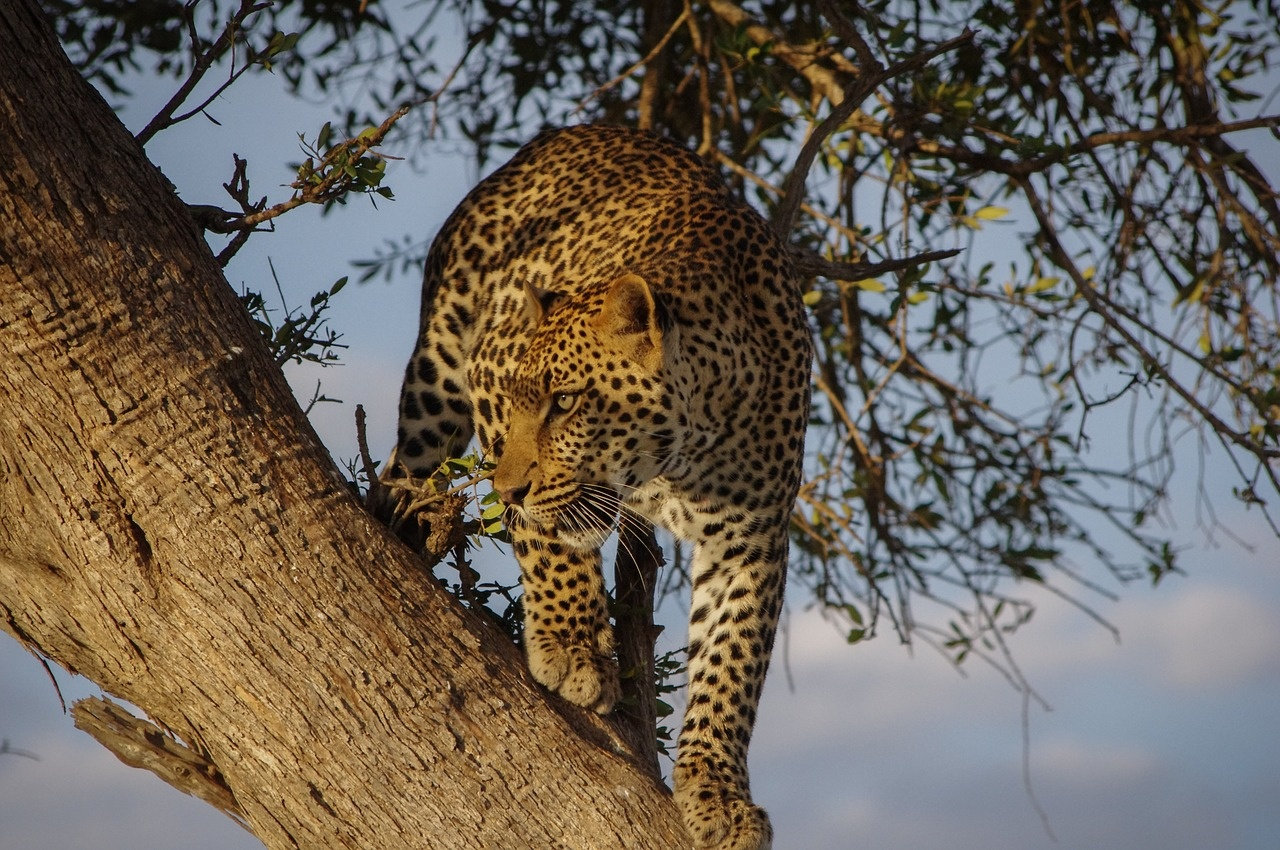leopard: (364, 110, 820, 850)
